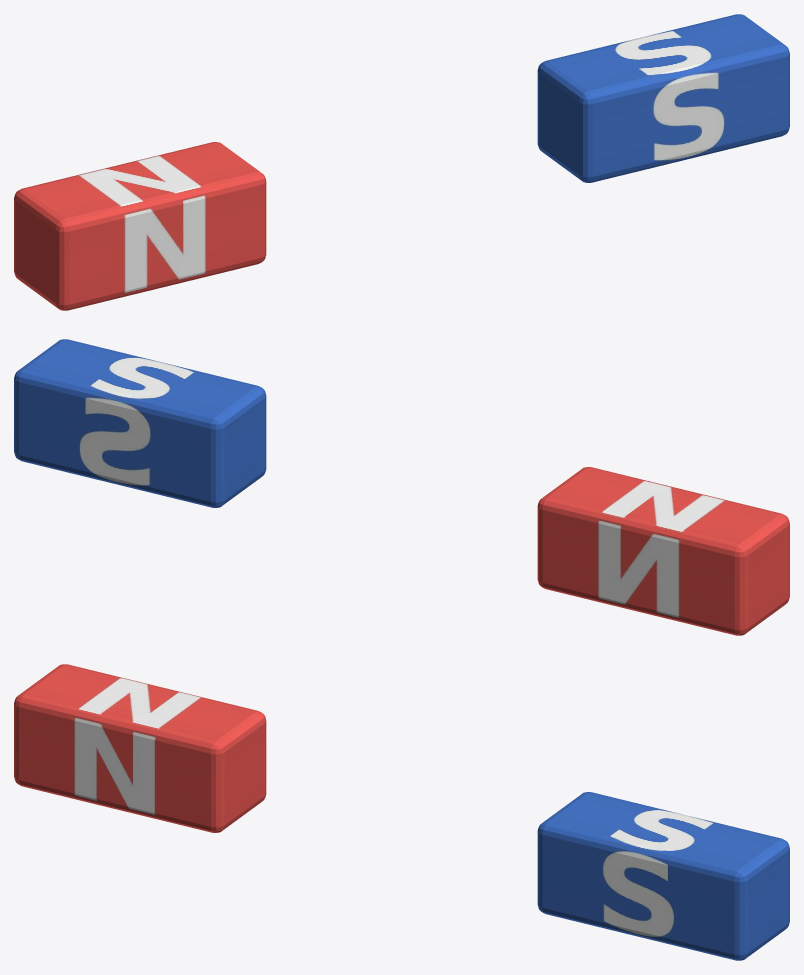
The model's file is magnet.glb.
3 views of the same model, one above another, from view 1: azimuth 30°, elevation 25°; view 2: azimuth 150°, elevation 25°; view 3: azimuth 330°, elevation 25° (orthographic).
Visible parts, largest first — view 1: MagnetHalfN, MagnetHalfS; view 2: MagnetHalfN, MagnetHalfS; view 3: MagnetHalfN, MagnetHalfS.
Part boxes in pixels (x1,y1,x2,y2): MagnetHalfN: [14, 142, 266, 310]; MagnetHalfS: [537, 14, 789, 182]; MagnetHalfN: [537, 467, 789, 635]; MagnetHalfS: [14, 339, 266, 507]; MagnetHalfN: [14, 664, 266, 832]; MagnetHalfS: [537, 792, 789, 960].
Bounding box in the file's own units: 0.42 × 0.05 × 0.05.
2 materials, 2 textured.
